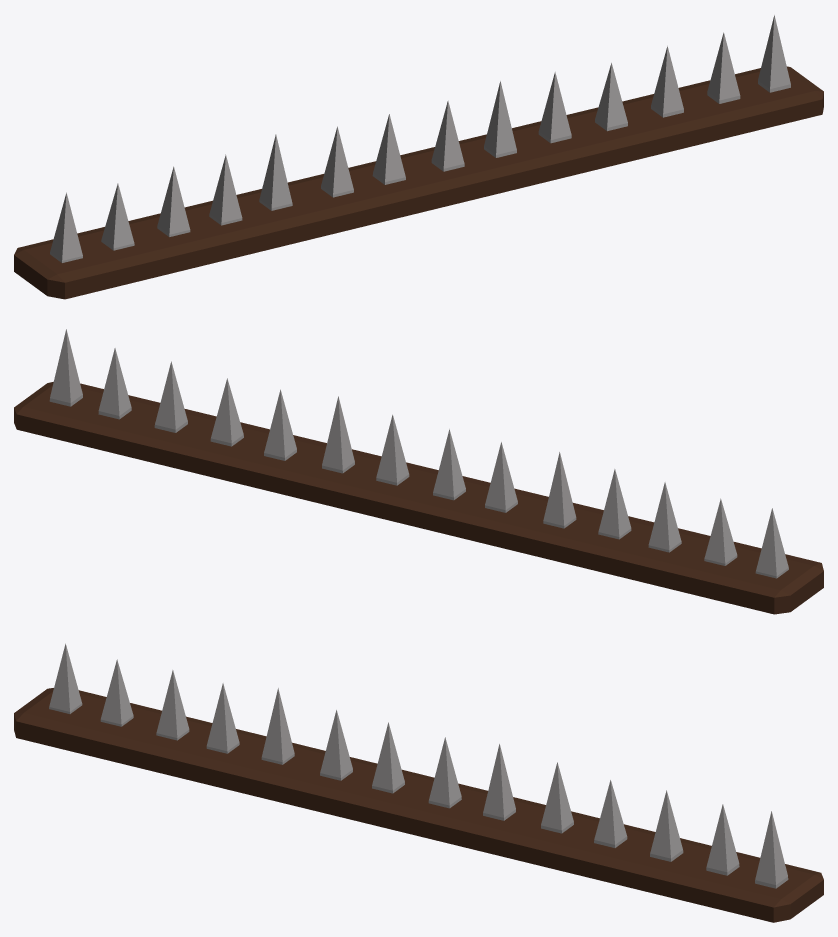
File: MEDMetalSpikeWoodenTrap.fbx
3 views of the same model, one above another, from view 1: azimuth 30°, elevation 25°; view 2: azimuth 150°, elevation 25°; view 3: azimuth 330°, elevation 25° (orthographic).
Visible parts, largest first — view 1: MEDMetalSpikeWoodenTrap; view 2: MEDMetalSpikeWoodenTrap; view 3: MEDMetalSpikeWoodenTrap.
Boxes of the visible parts, box(x1,y1,x2,y2) form: MEDMetalSpikeWoodenTrap: box(14, 15, 823, 299); MEDMetalSpikeWoodenTrap: box(14, 329, 823, 614); MEDMetalSpikeWoodenTrap: box(14, 643, 823, 922).
Bounding box in the file's own units: 142 × 15.63 × 15.07.
